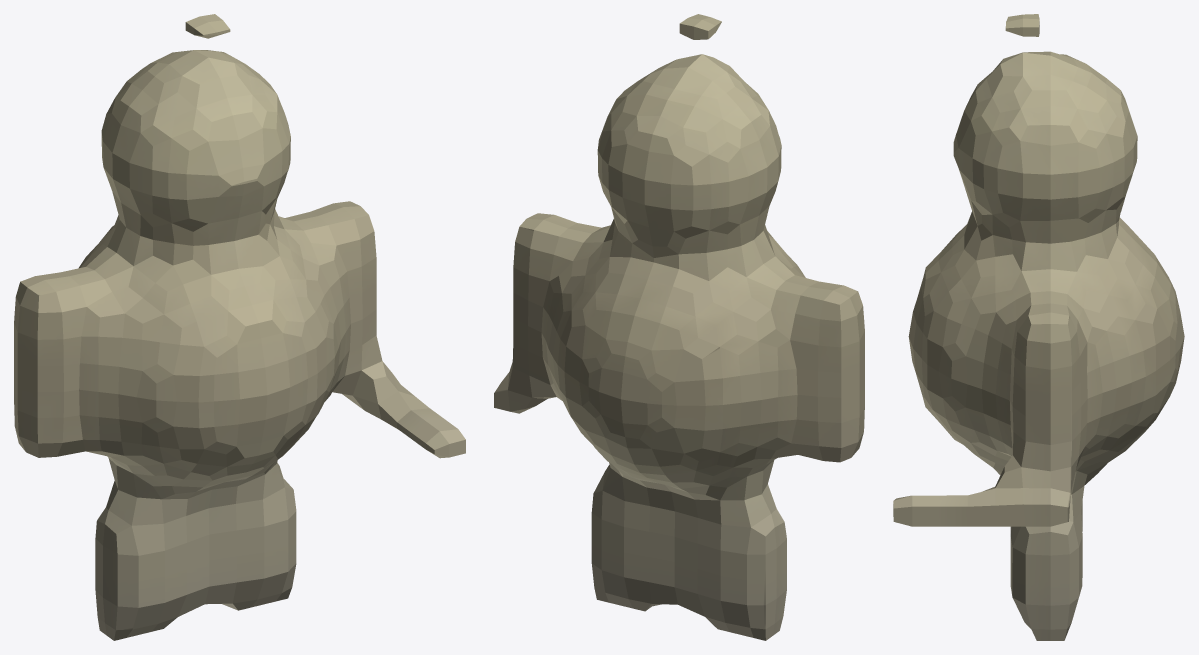
Rendered from fireDokkaebi.glb.
3 renders of one model, left to right at view 1: azimuth 30°, elevation 25°; view 2: azimuth 150°, elevation 25°; view 3: azimuth 270°, elevation 25°, orthographic. The views are drawn at different scales.
Parts seen in each view (by area): view 1: geometry_0; view 2: geometry_0; view 3: geometry_0.
Part boxes in pixels (x1,y1,x2,y2): geometry_0: [14, 14, 465, 640]; geometry_0: [494, 14, 864, 640]; geometry_0: [893, 14, 1184, 640].
Bounding box in the file's own units: 0.6186 × 0.9654 × 0.4383.
Materials: 1 (1 with a texture image).
